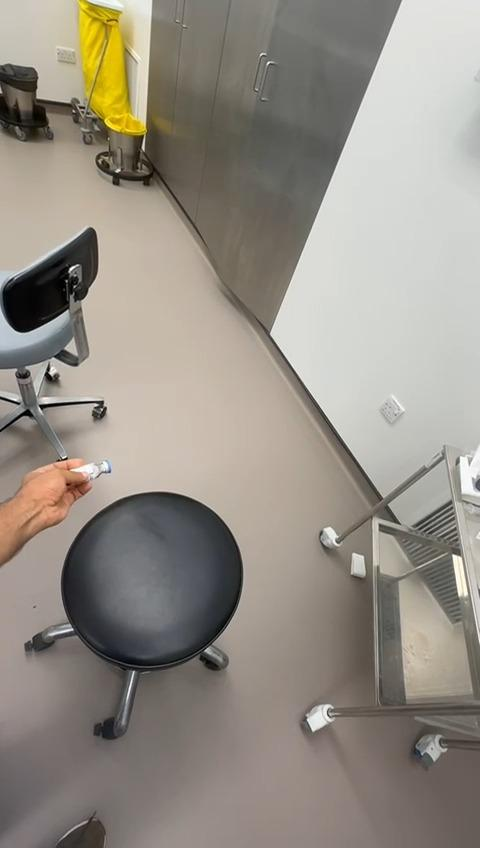cefazolin: (71, 459, 113, 480)
